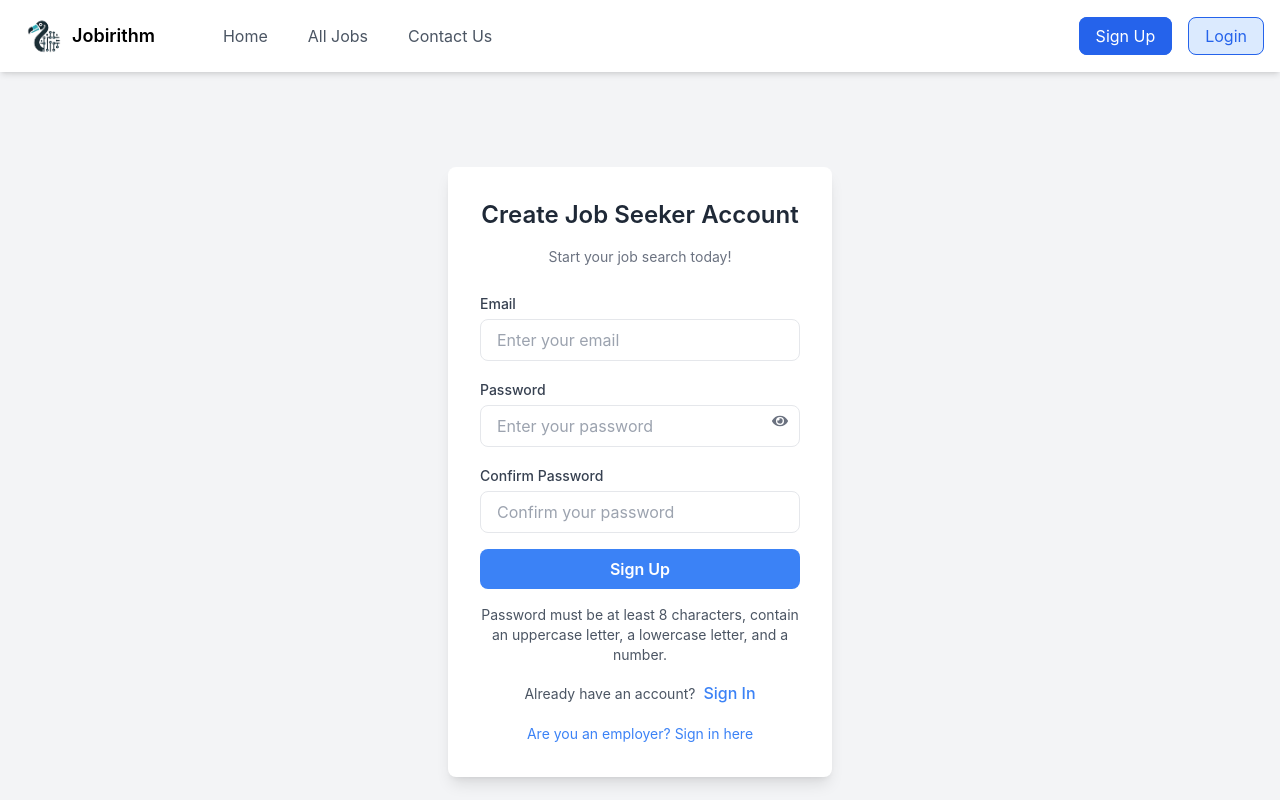
Scenario: AuthForm Component Tests › should toggle password visibility
Note: Type a password
Step 1. Type "Password123" into the password field with placeholder "Enter your password" → (640, 426), box [480, 405, 800, 447]
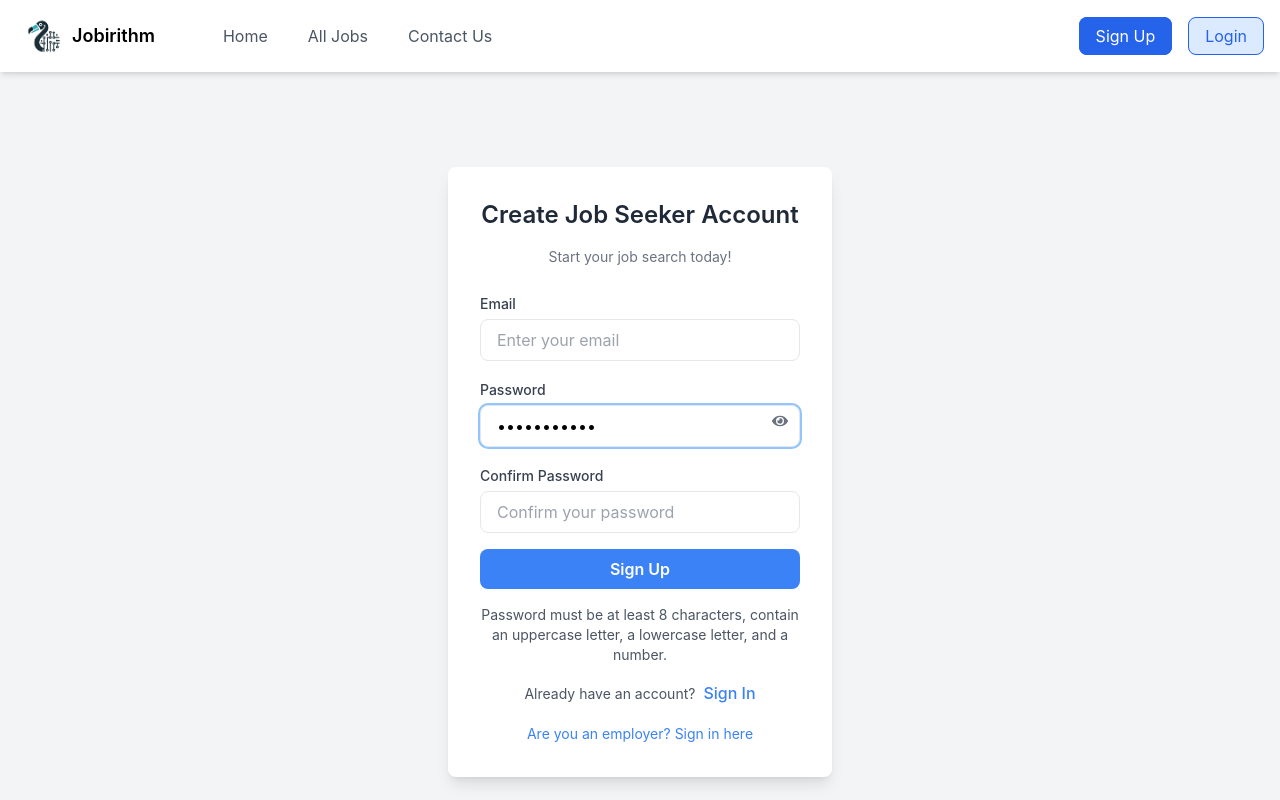
Step 2. Click the 1st button → (780, 421), box [772, 413, 788, 429]
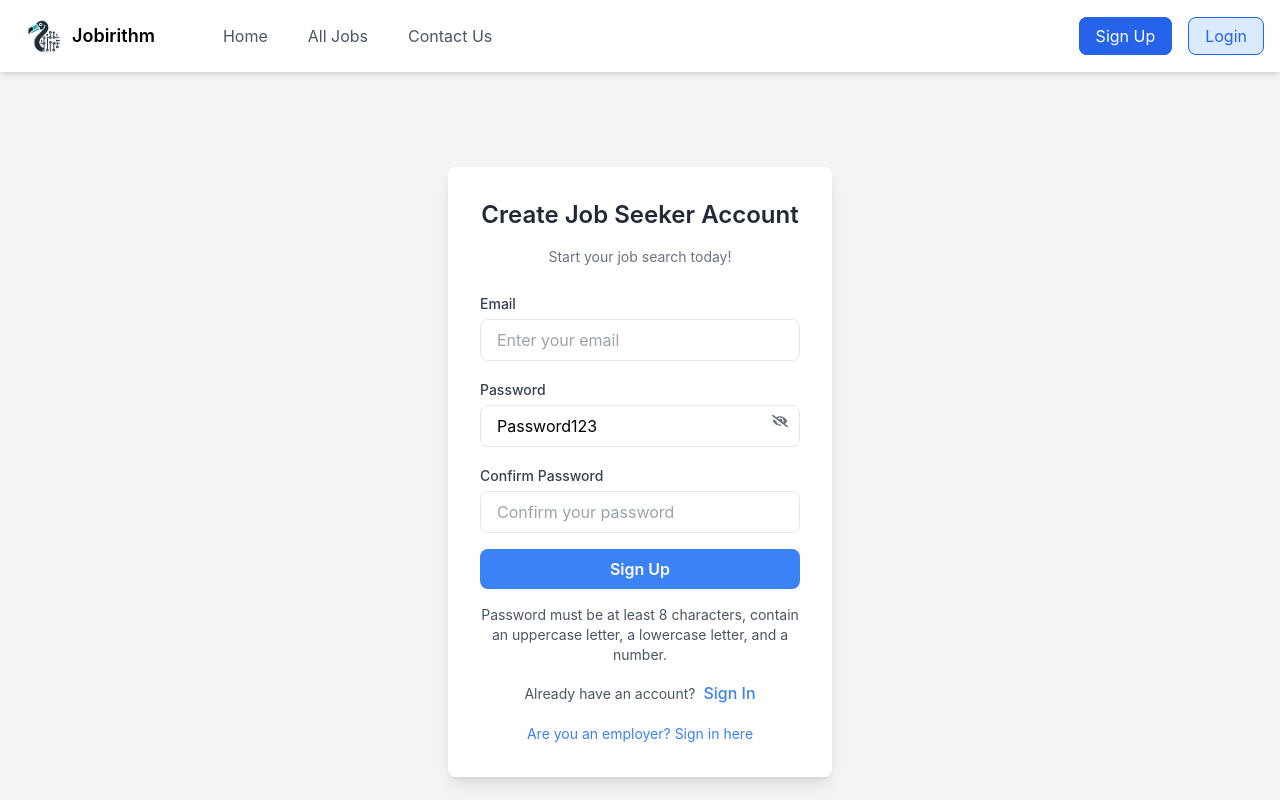
Now the field with placeholder "Enter your password" shows its text, box [480, 405, 800, 447]
Note: Toggle back to password (optional, to test both directions)
Step 3. Click the 1st button → (780, 421), box [772, 413, 788, 429]
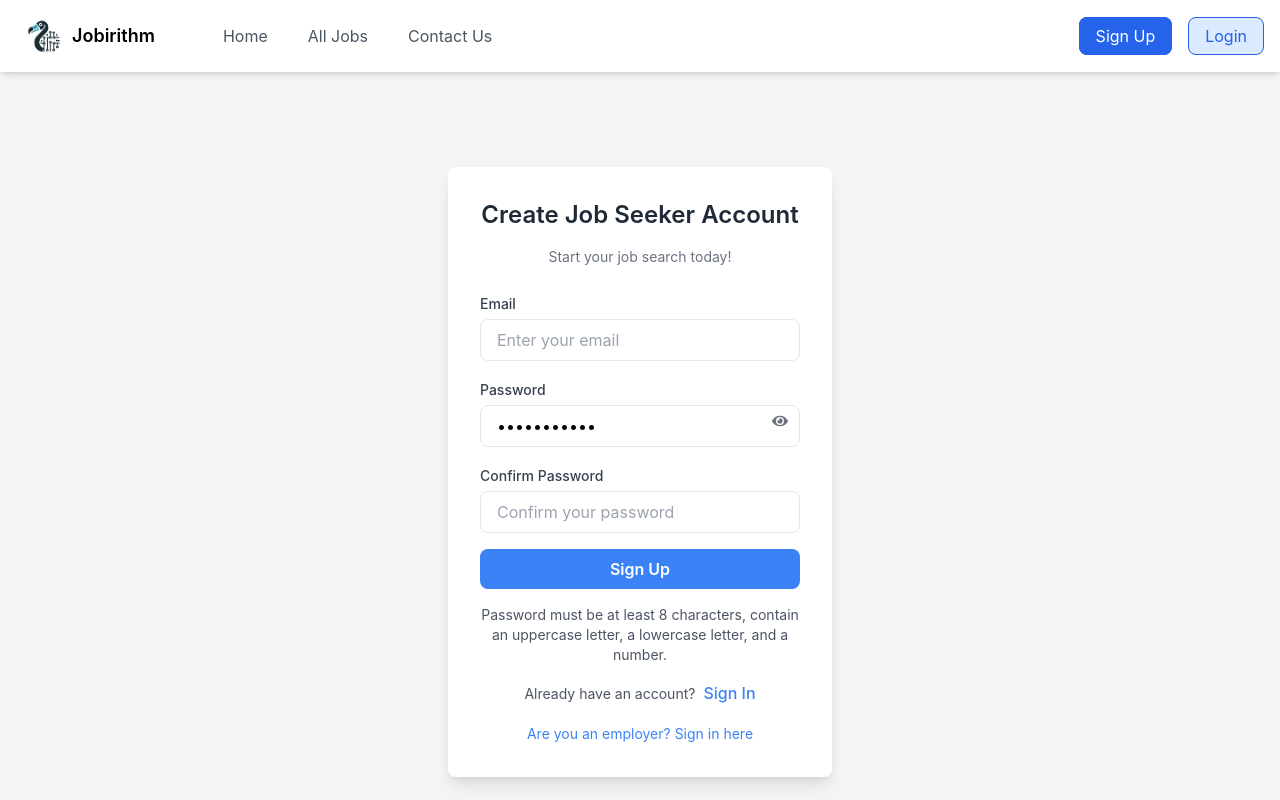
Now the password field with placeholder "Enter your password" hides its text, box [480, 405, 800, 447]
